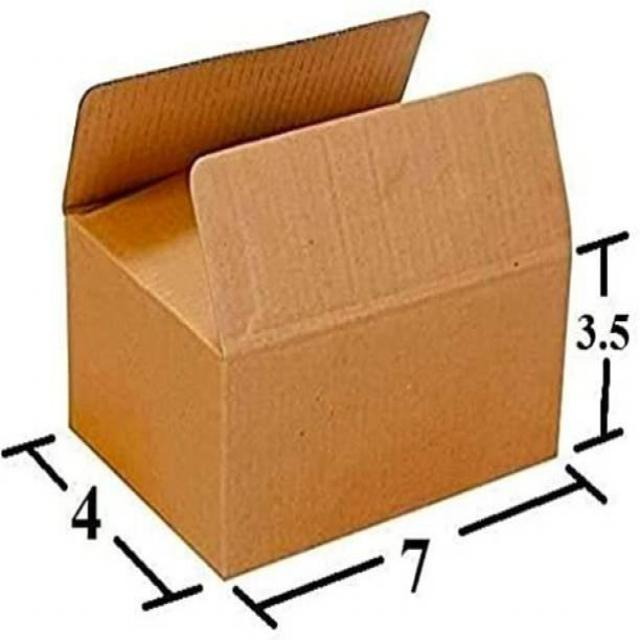box: (60, 8, 574, 581)
opened: (61, 8, 572, 355)
